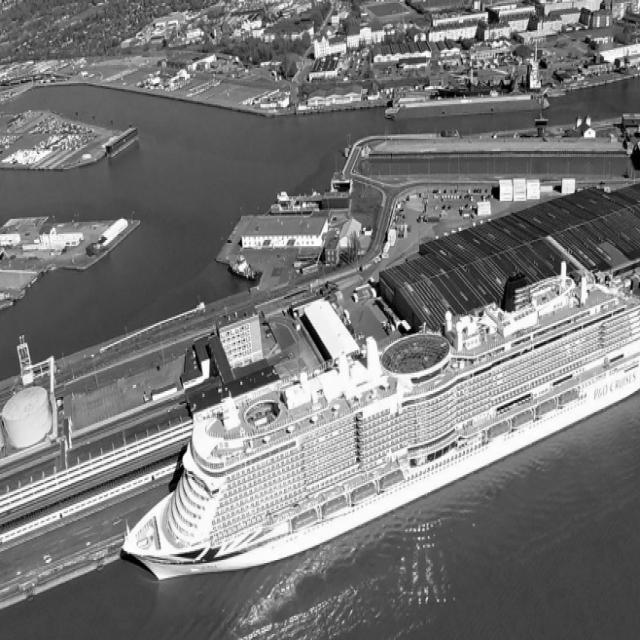cruises: (117, 257, 640, 594)
